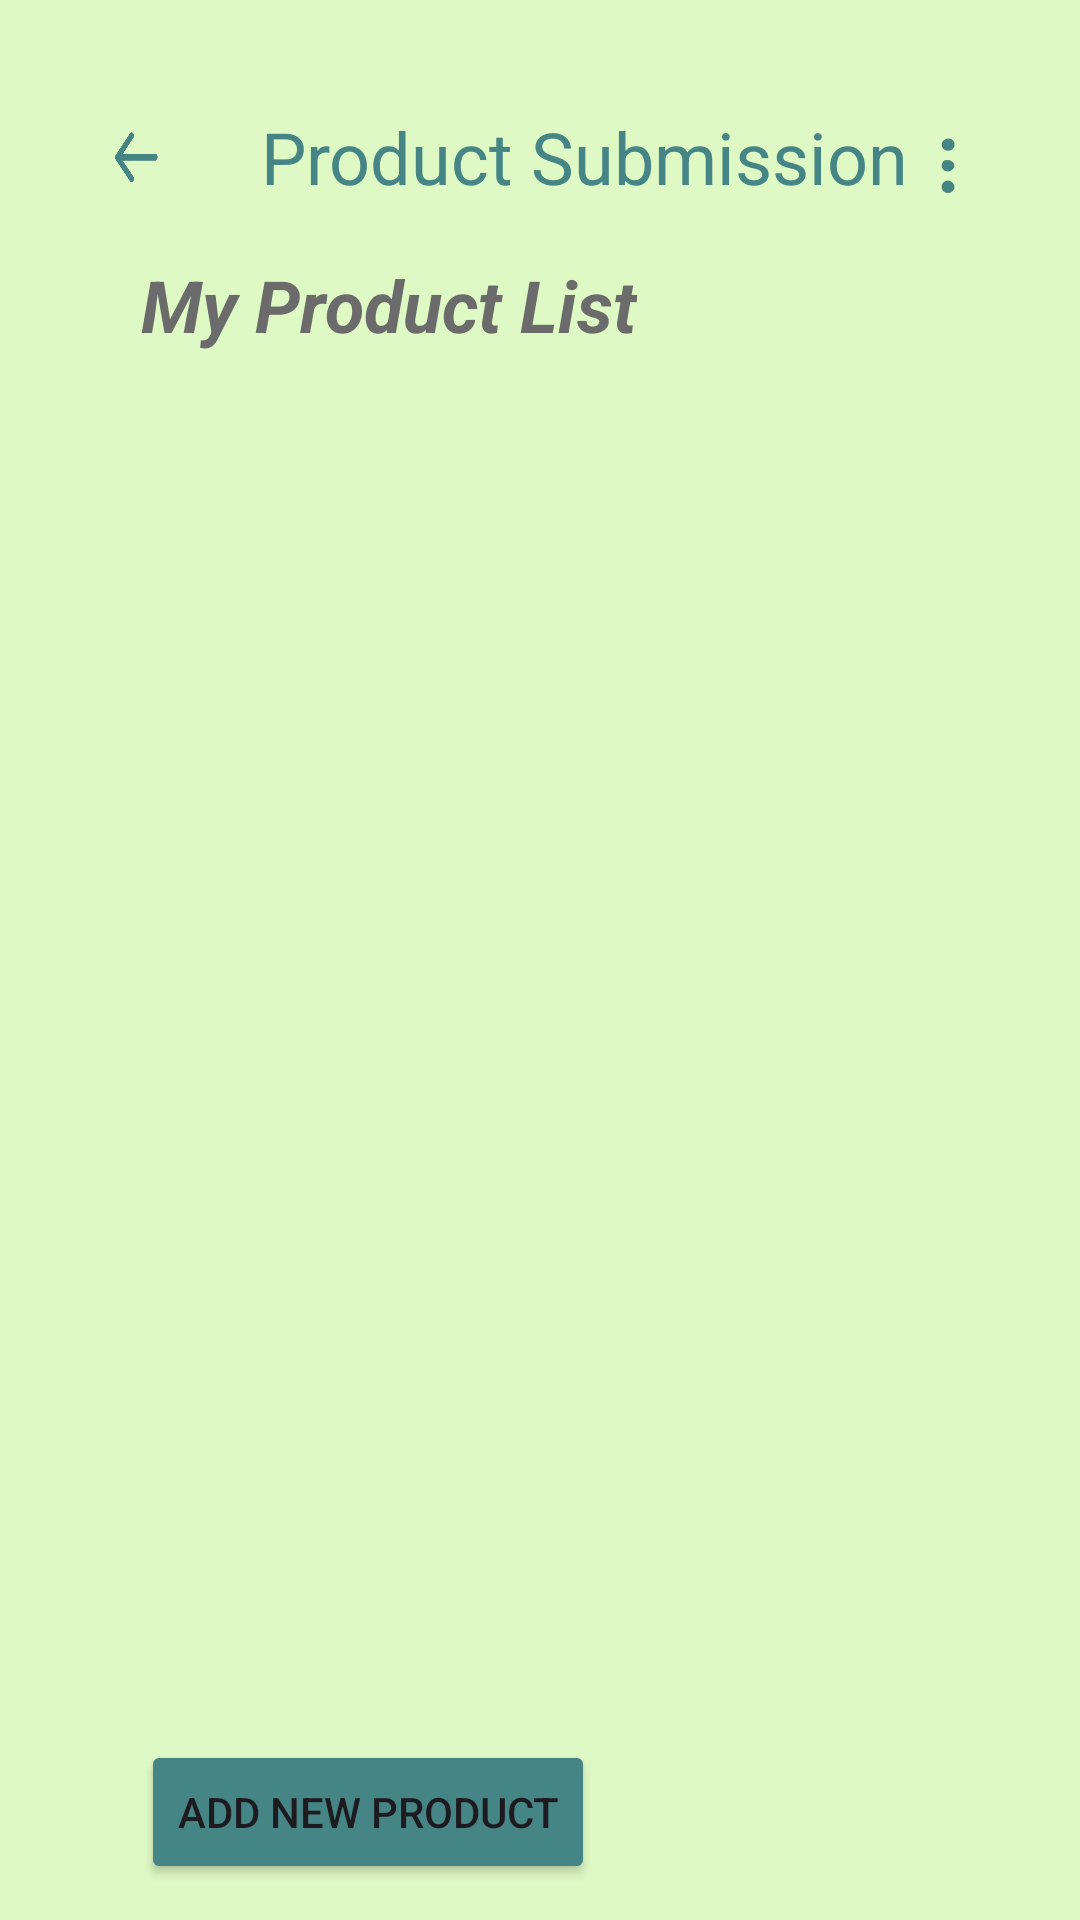

Point at icon controls on the screen. Image size 1080×1920, points as (x,y).
arrow: (136,157)
